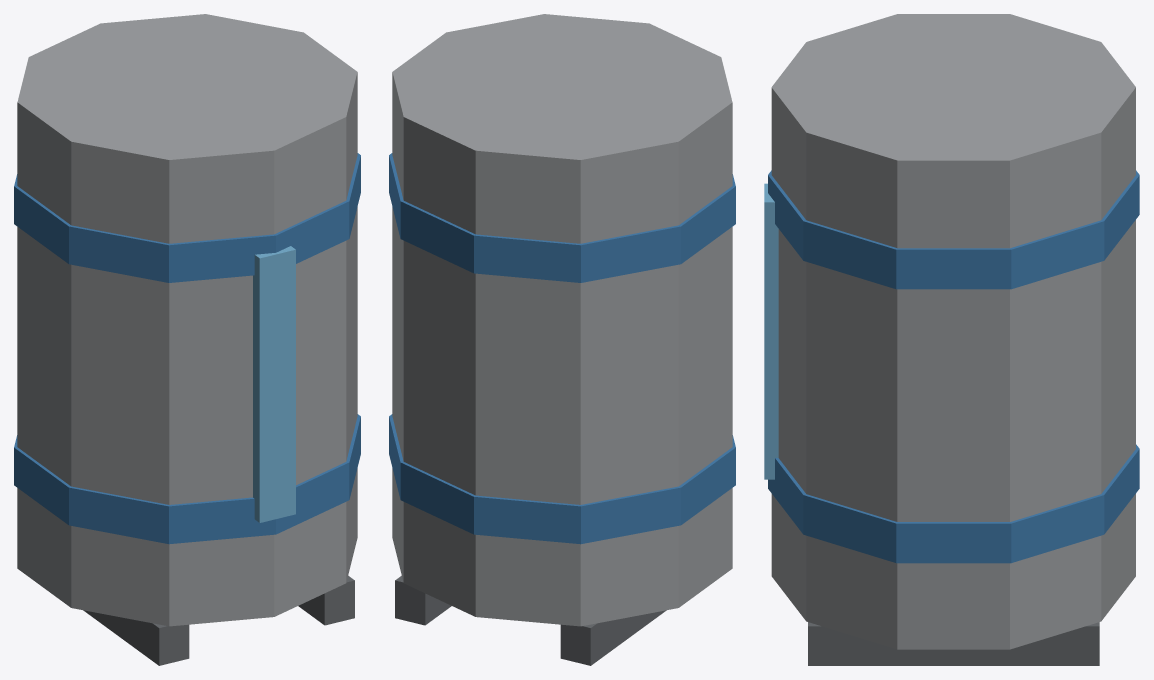
Rendered from water_tank_flat.glb.
The picture shows the model from 3 angles, left to right: view 1: azimuth 30°, elevation 25°; view 2: azimuth 150°, elevation 25°; view 3: azimuth 270°, elevation 25°; orthographic projection. The views are drawn at different scales.
Parts seen in each view (by area): view 1: water_tank_base; view 2: water_tank_base; view 3: water_tank_base.
Part boxes in pixels (box(x1,y1,x2,y2)): water_tank_base: box(14, 14, 360, 665); water_tank_base: box(389, 14, 735, 665); water_tank_base: box(764, 14, 1139, 665).
Size of the model in its own units: 0.1213 by 0.2 by 0.1287.
